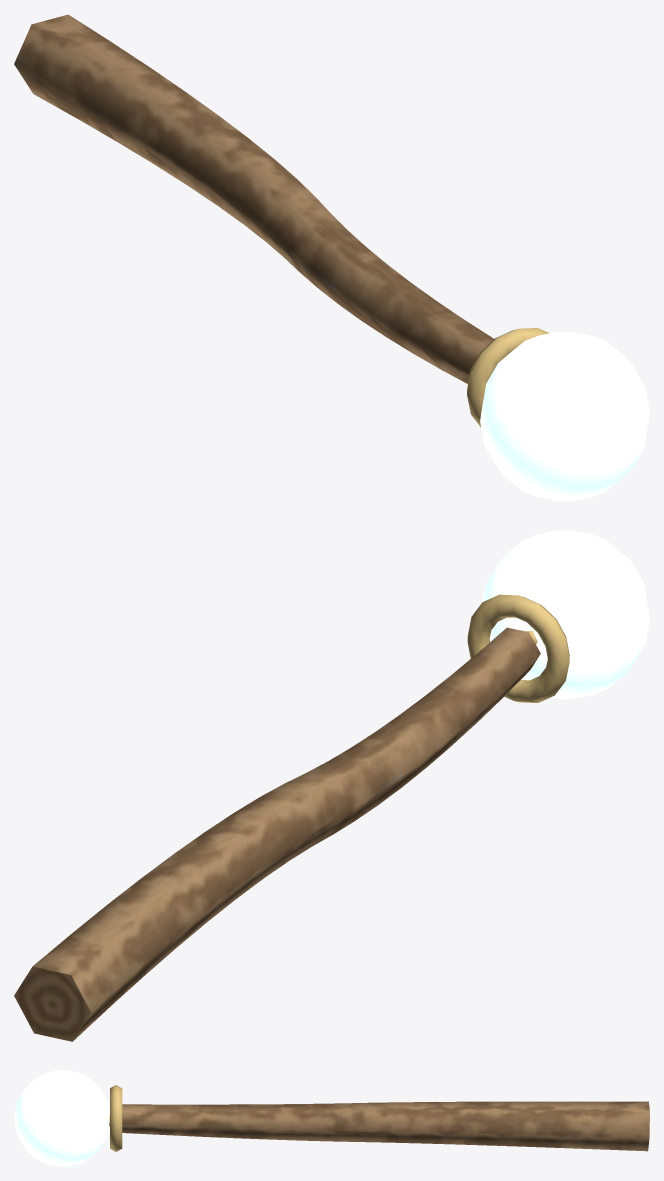
File: wand.glb
3 renders of one model, top to bottom at view 1: azimuth 30°, elevation 25°; view 2: azimuth 150°, elevation 25°; view 3: azimuth 270°, elevation 25°, orthographic. The views are drawn at different scales.
Parts seen in each view (by area): view 1: Wand; view 2: Wand; view 3: Wand.
Part boxes in pixels (x1=…): Wand: x1=14, y1=14, x2=649, y2=501; Wand: x1=14, y1=530, x2=649, y2=1041; Wand: x1=14, y1=1070, x2=649, y2=1166.
Size of the model in its own units: 0.11 by 0.11 by 0.7167.
1 material, 1 textured.
